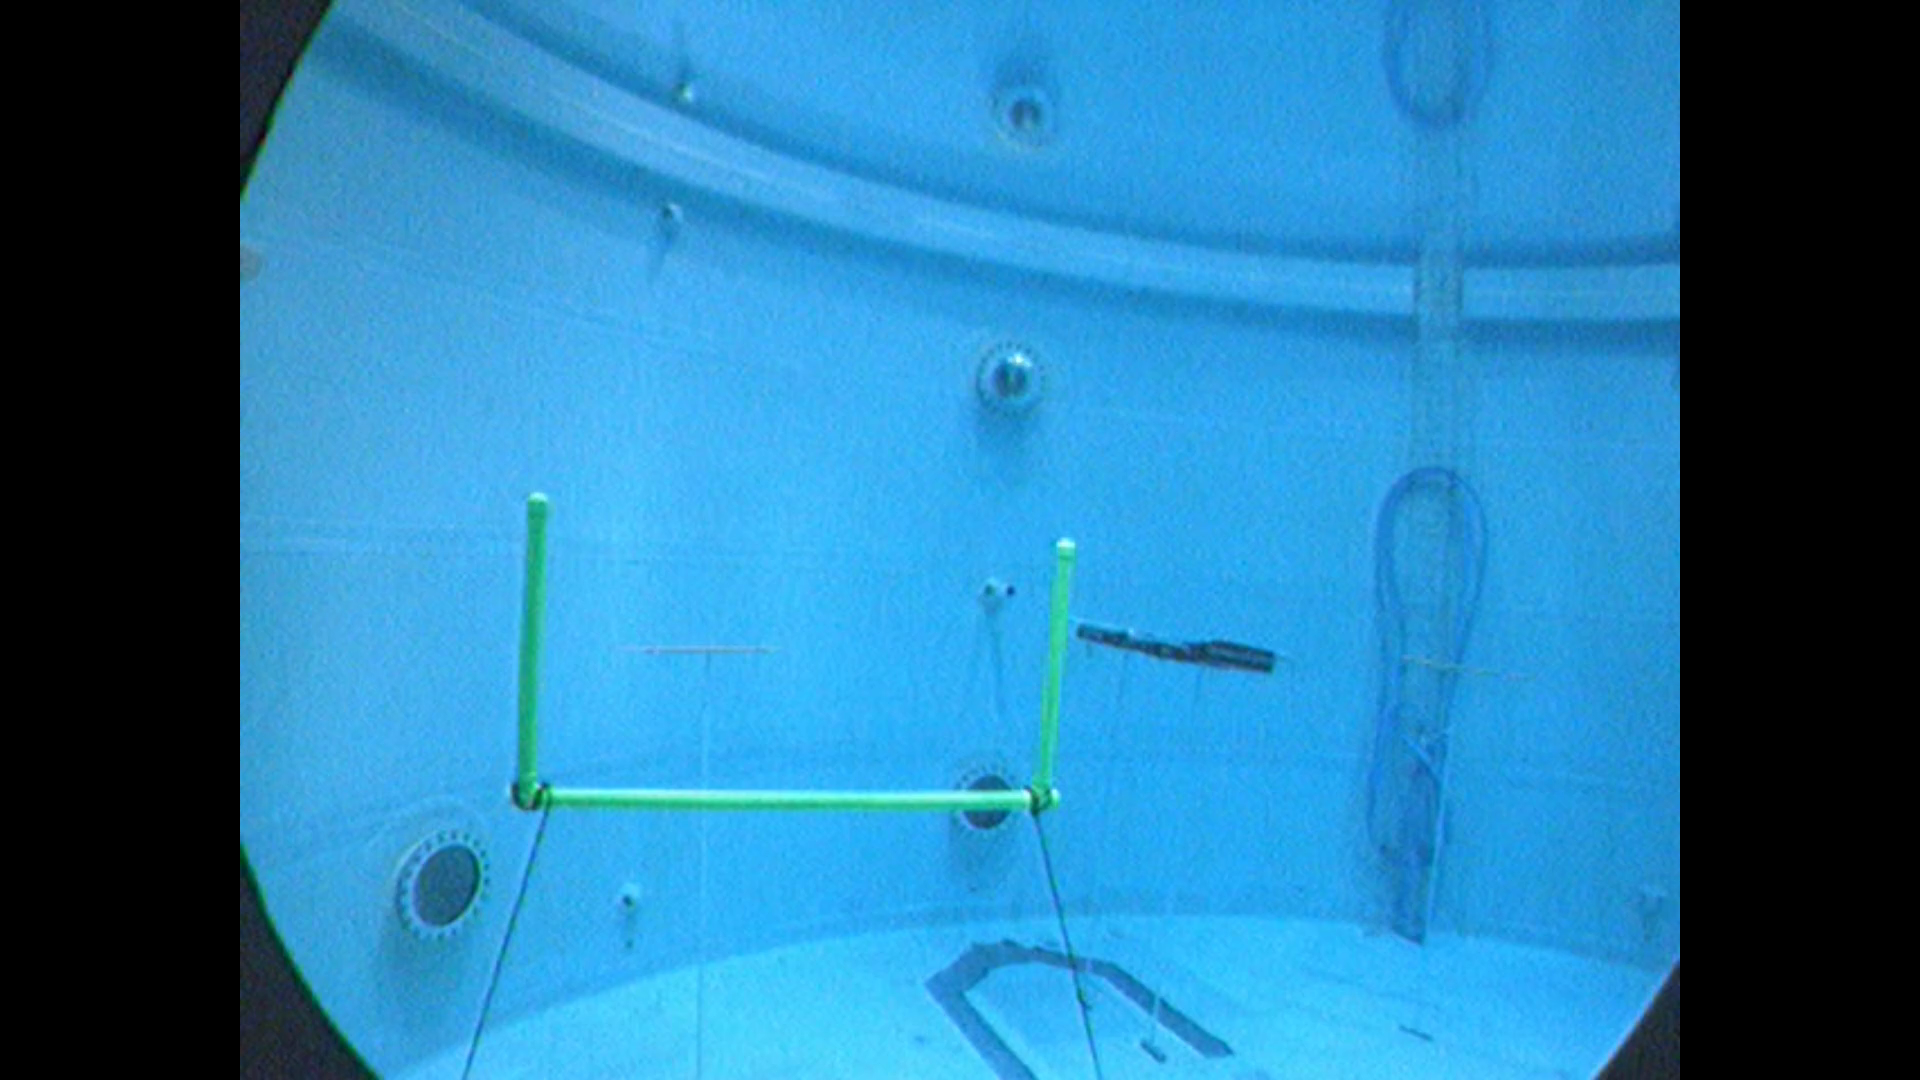gate: (506, 485, 1081, 829)
